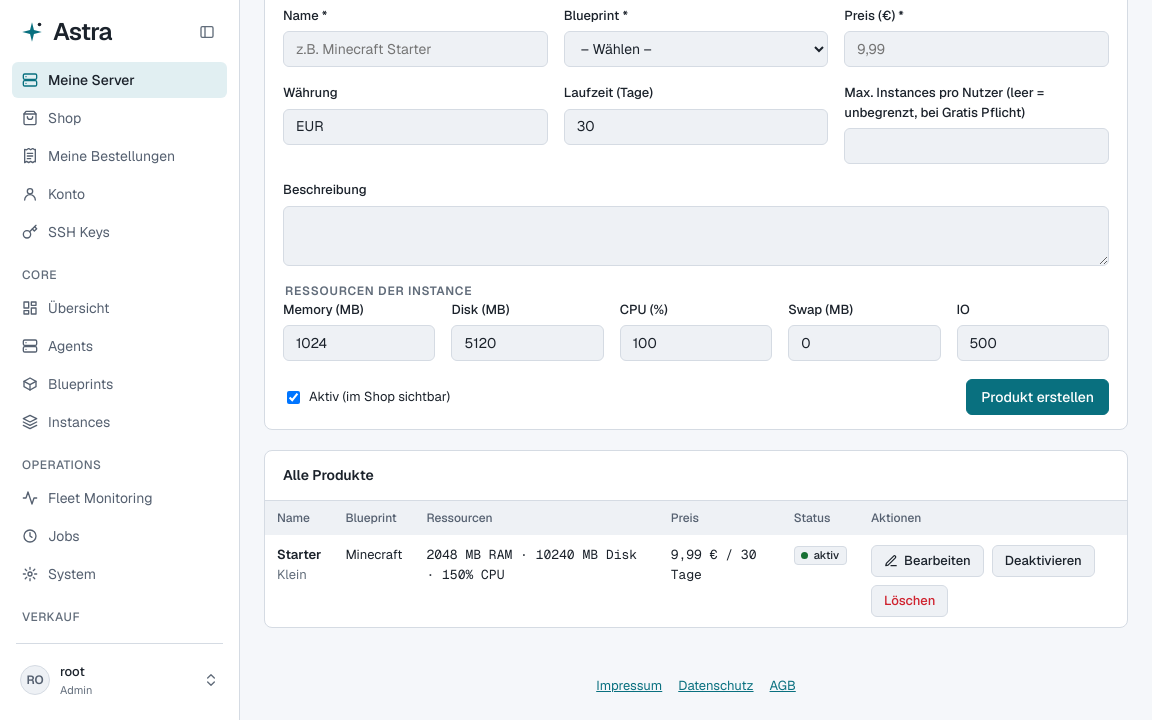
it: AdminProductsPage › zeigt den Backend-Fehler, wenn das Loeschen abgelehnt wird
The width and height of the screenshot is (1152, 720).
(page scrolled)
Click the button "Löschen": [910, 601] box [871,585,948,617]
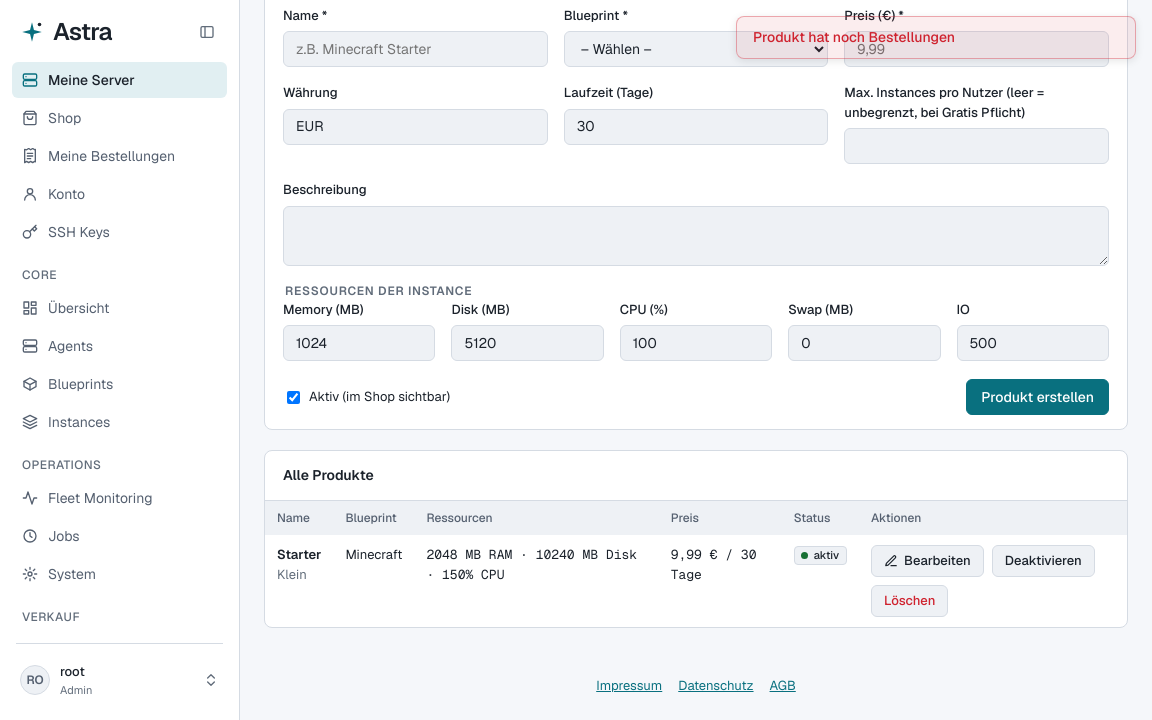
expect the text "Produkt hat noch Bestellungen" is shown: met, box [736,16,1136,59]
